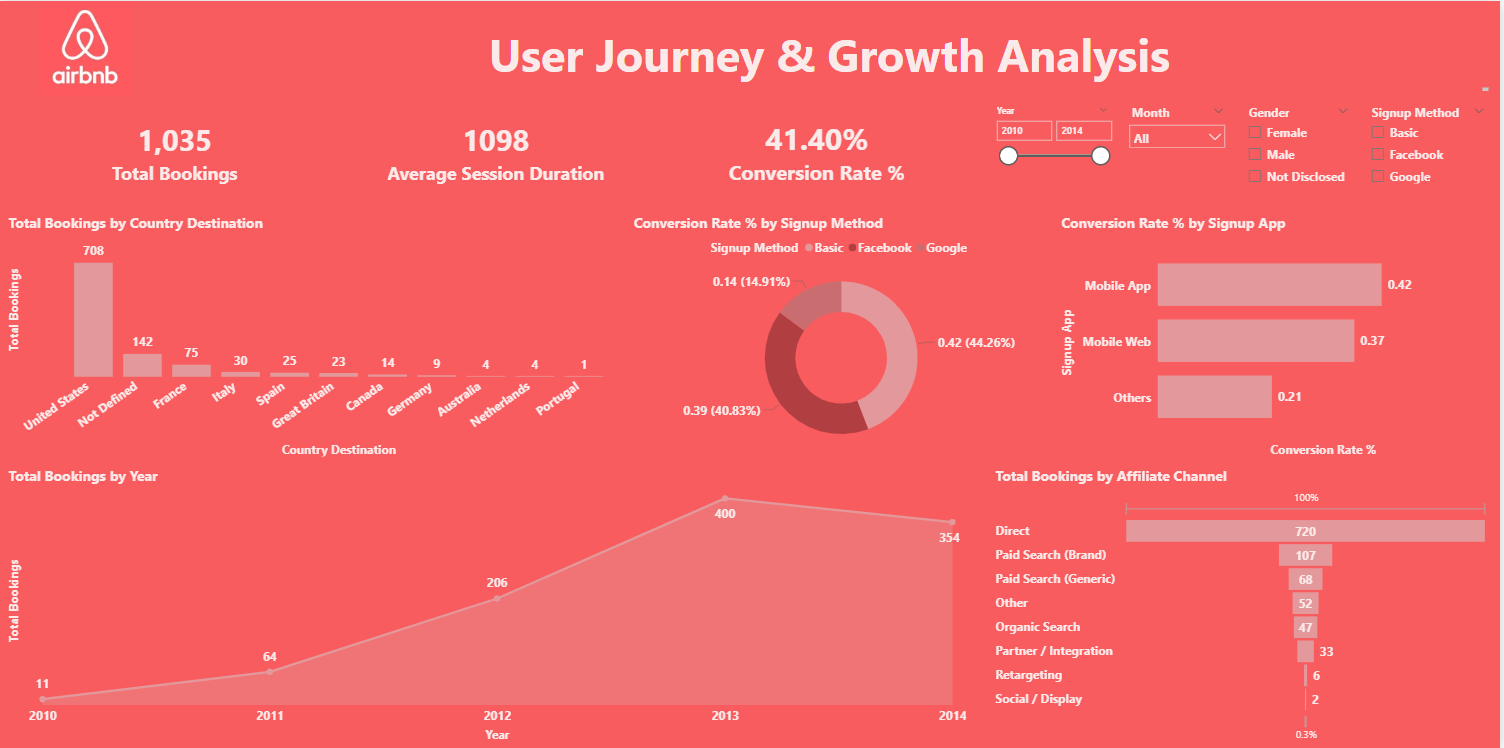

The page's visual inventory and layout, read from the dashboard file:
{"tool":"powerbi","page":{"name":"Growth Analysis","canvas":[2000,1000],"ordinal":1},"visuals":[{"type":"image","box":[5,0,216.3,125.7],"z":0},{"type":"cardVisual","fields":{"Data":["countries_users_sessions.total_bookings","countries_users_sessions.avg_session_duration","countries_users_sessions.conversion_rate %"]},"box":[5,125.7,1310.2,148.4],"z":1000},{"type":"clusteredColumnChart","fields":{"Category":["countries_users_sessions.country_destination"],"Y":["countries_users_sessions.total_bookings"]},"box":[5,282.5,830,330],"z":5000},{"type":"funnel","fields":{"Category":["countries_users_sessions.affiliate_channel"],"Y":["countries_users_sessions.total_bookings"]},"box":[1322.5,620,667.5,372.5],"z":6000},{"type":"donutChart","fields":{"Category":["countries_users_sessions.signup_method"],"Y":["countries_users_sessions.conversion_rate %"]},"box":[840,282.5,562.5,330],"z":7000},{"type":"clusteredBarChart","fields":{"Category":["countries_users_sessions.signup_app"],"Y":["countries_users_sessions.conversion_rate %"]},"box":[1410,282.5,580,330],"z":8000},{"type":"areaChart","fields":{"Category":["countries_users_sessions.date_account_created.Variation.Date Hierarchy.Year","countries_users_sessions.date_account_created.Variation.Date Hierarchy.Month"],"Y":["countries_users_sessions.total_bookings"]},"box":[5,620,1287.5,372.5],"z":9000},{"type":"textbox","title":"User Journey & Growth Analysis","box":[222.5,30,1767.5,95],"z":10000},{"type":"slicer","fields":{"Values":["countries_users_sessions.date_account_created.Variation.Date Hierarchy.Year"]},"box":[1315,132.5,172.5,140],"z":10001},{"type":"slicer","fields":{"Values":["countries_users_sessions.date_account_created.Variation.Date Hierarchy.Month"]},"box":[1495,132.5,147.5,140],"z":10002},{"type":"slicer","fields":{"Values":["countries_users_sessions.gender"]},"box":[1652.5,132.5,157.5,140],"z":10003},{"type":"slicer","fields":{"Values":["countries_users_sessions.signup_method"]},"box":[1815,132.5,175,140],"z":10004}]}

Visuals, with their boxes in screenshot pixels (x1, y1, x2, y2), scaled from the page's 2000x1000 canvas onto the 1504x748 screenshot:
image: pyautogui.locateOnScreen(4, 0, 166, 94)
cardVisual - countries_users_sessions.total_bookings x countries_users_sessions.avg_session_duration: pyautogui.locateOnScreen(4, 94, 989, 205)
clusteredColumnChart - countries_users_sessions.country_destination x countries_users_sessions.total_bookings: pyautogui.locateOnScreen(4, 211, 628, 458)
funnel - countries_users_sessions.affiliate_channel x countries_users_sessions.total_bookings: pyautogui.locateOnScreen(995, 464, 1496, 742)
donutChart - countries_users_sessions.signup_method x countries_users_sessions.conversion_rate %: pyautogui.locateOnScreen(632, 211, 1055, 458)
clusteredBarChart - countries_users_sessions.signup_app x countries_users_sessions.conversion_rate %: pyautogui.locateOnScreen(1060, 211, 1496, 458)
areaChart - countries_users_sessions.date_account_created.Variation.Date Hierarchy.Year x countries_users_sessions.date_account_created.Variation.Date Hierarchy.Month: pyautogui.locateOnScreen(4, 464, 972, 742)
"User Journey & Growth Analysis" textbox: pyautogui.locateOnScreen(167, 22, 1496, 94)
slicer - countries_users_sessions.date_account_created.Variation.Date Hierarchy.Year: pyautogui.locateOnScreen(989, 99, 1119, 204)
slicer - countries_users_sessions.date_account_created.Variation.Date Hierarchy.Month: pyautogui.locateOnScreen(1124, 99, 1235, 204)
slicer - countries_users_sessions.gender: pyautogui.locateOnScreen(1243, 99, 1361, 204)
slicer - countries_users_sessions.signup_method: pyautogui.locateOnScreen(1365, 99, 1496, 204)
